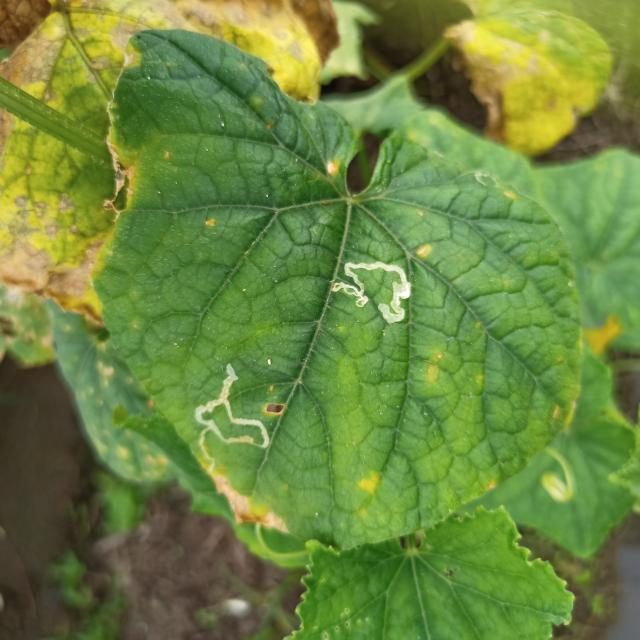disease_cucumber: (553, 396, 578, 434), (358, 471, 380, 513), (424, 351, 444, 388), (324, 160, 344, 182), (416, 241, 430, 262), (500, 189, 518, 202), (203, 216, 217, 232)
